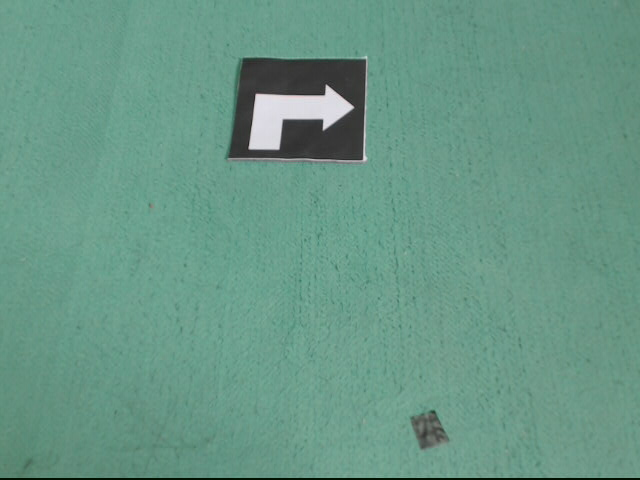right: (229, 57, 365, 160)
